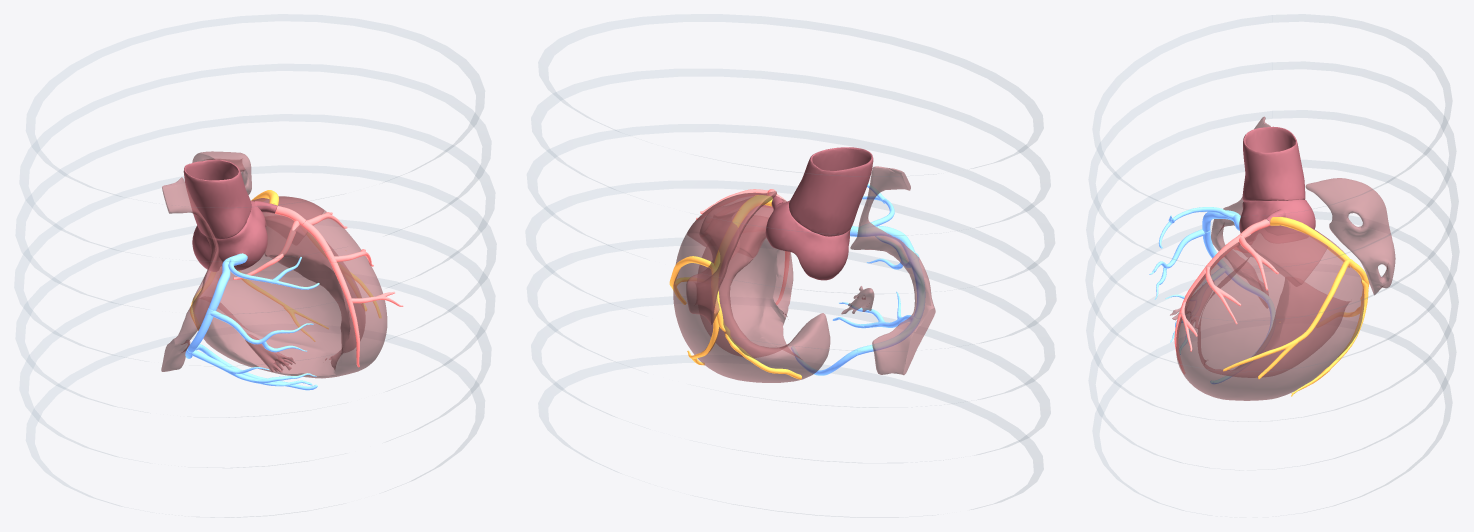
Rendered from heart_anatomy_bp3d.glb.
3 views of the same model, side by side, from view 1: azimuth 30°, elevation 25°; view 2: azimuth 150°, elevation 25°; view 3: azimuth 270°, elevation 25° (orthographic). The views are drawn at different scales.
Visible parts, largest first — view 1: Thoracic_Cage, Myocardium, Aorta_LM, Vessel_RCA, Vessel_LAD, Vessel_LCX; view 2: Thoracic_Cage, Myocardium, Aorta_LM, Vessel_RCA, Vessel_LCX; view 3: Myocardium, Thoracic_Cage, Aorta_LM, Vessel_LCX, Vessel_RCA, Vessel_LAD.
Boxes of the visible parts, x1,y1,x2,y2 form: Thoracic_Cage: (14, 14, 496, 505); Myocardium: (161, 151, 387, 378); Aorta_LM: (183, 159, 277, 271); Vessel_RCA: (185, 253, 319, 390); Vessel_LAD: (233, 206, 403, 367); Vessel_LCX: (190, 190, 381, 341); Thoracic_Cage: (526, 14, 1055, 508); Myocardium: (673, 166, 935, 382); Aorta_LM: (765, 147, 873, 280); Vessel_RCA: (791, 183, 925, 375); Vessel_LCX: (669, 195, 801, 379); Myocardium: (1170, 116, 1395, 400); Thoracic_Cage: (1086, 14, 1458, 510); Aorta_LM: (1239, 126, 1315, 233); Vessel_LCX: (1223, 217, 1369, 396); Vessel_RCA: (1149, 207, 1275, 383); Vessel_LAD: (1174, 219, 1278, 373).
Bounding box in the file's own units: 4.8 × 3.54 × 3.6.
